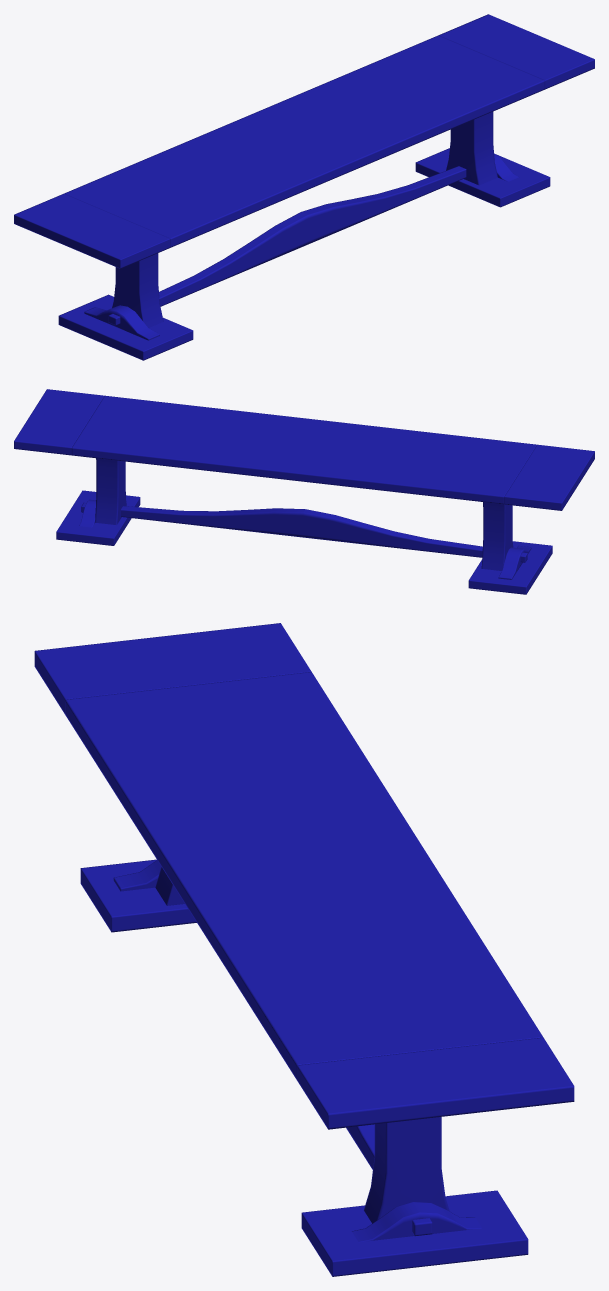
Rendered from Bench.fbx.
The picture shows the model from 3 angles, top to bottom: view 1: azimuth 30°, elevation 25°; view 2: azimuth 150°, elevation 25°; view 3: azimuth 270°, elevation 25°; orthographic projection. The views are drawn at different scales.
Visible parts, largest first — view 1: Bench; view 2: Bench; view 3: Bench.
Part boxes in pixels (x1=…): Bench: x1=14, y1=14, x2=594, y2=360; Bench: x1=14, y1=389, x2=594, y2=594; Bench: x1=34, y1=623, x2=574, y2=1276.
Bounding box in the file's own units: 193 × 37.06 × 89.45.
